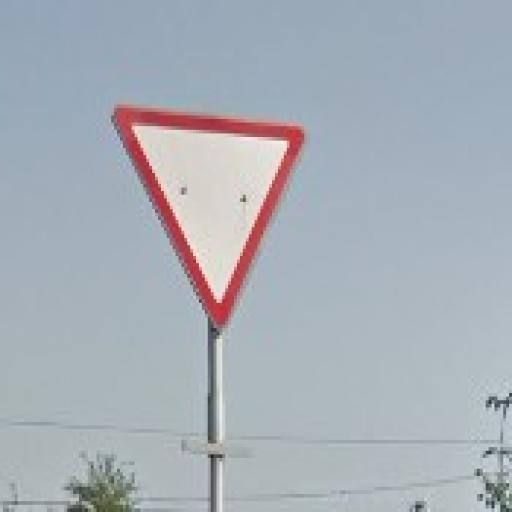traffic_sign: (115, 106, 305, 333)
